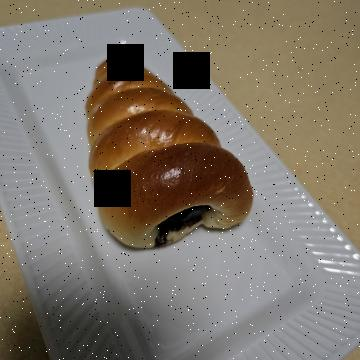cream horn: (36, 90, 281, 286)
